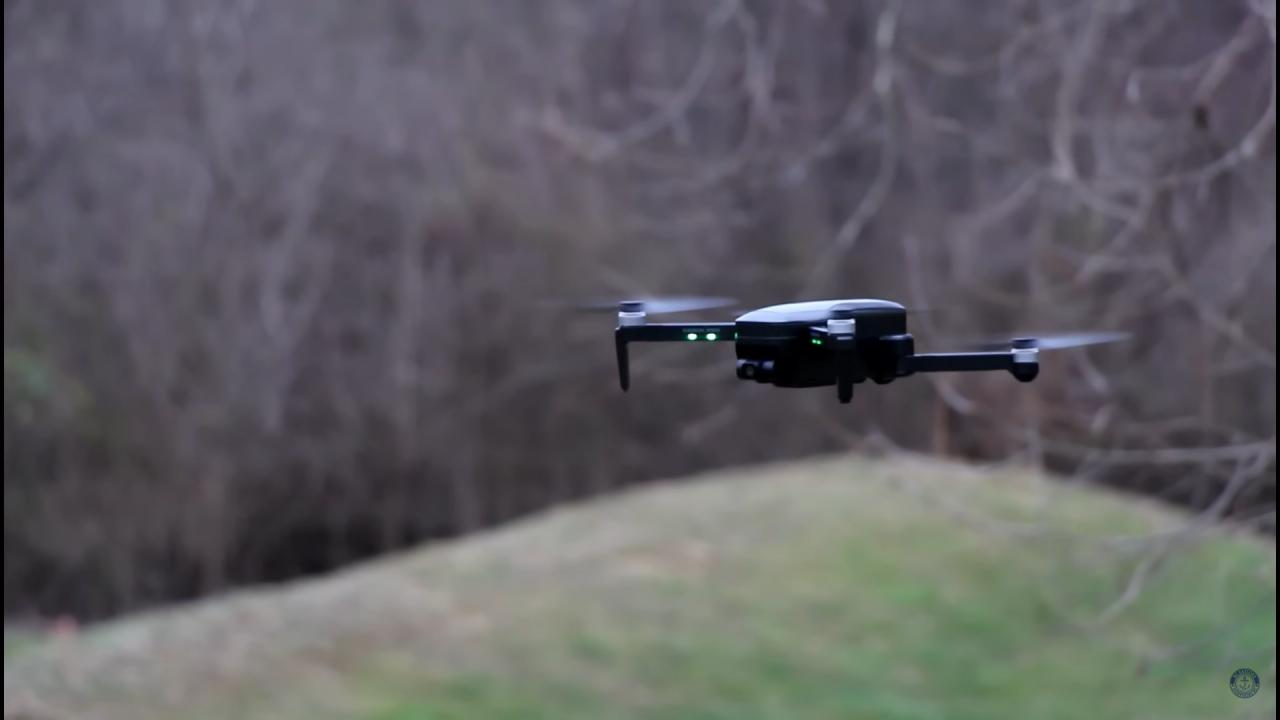Drone: (507, 267, 1154, 434)
